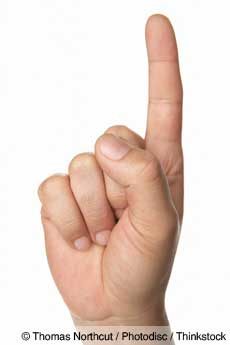finger: (142, 9, 195, 147), (33, 173, 95, 249), (65, 151, 115, 245), (101, 127, 140, 217)
